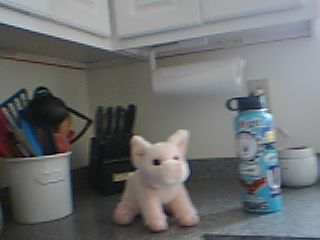piggy: (113, 128, 201, 232)
